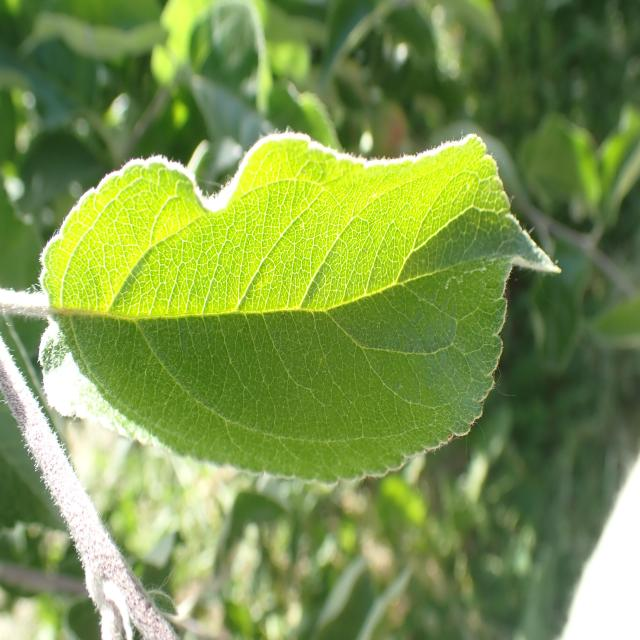healthy: (40, 128, 562, 482)
